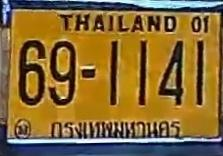1: (109, 40, 118, 106), (138, 40, 146, 105), (196, 40, 204, 105)
4: (158, 40, 183, 105)
6: (18, 40, 45, 105)
9: (49, 40, 76, 105)
BKK: (47, 117, 184, 142)
